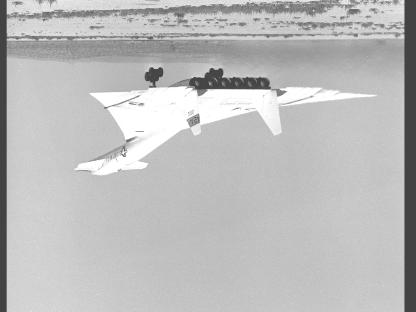U2: (74, 68, 376, 176)
